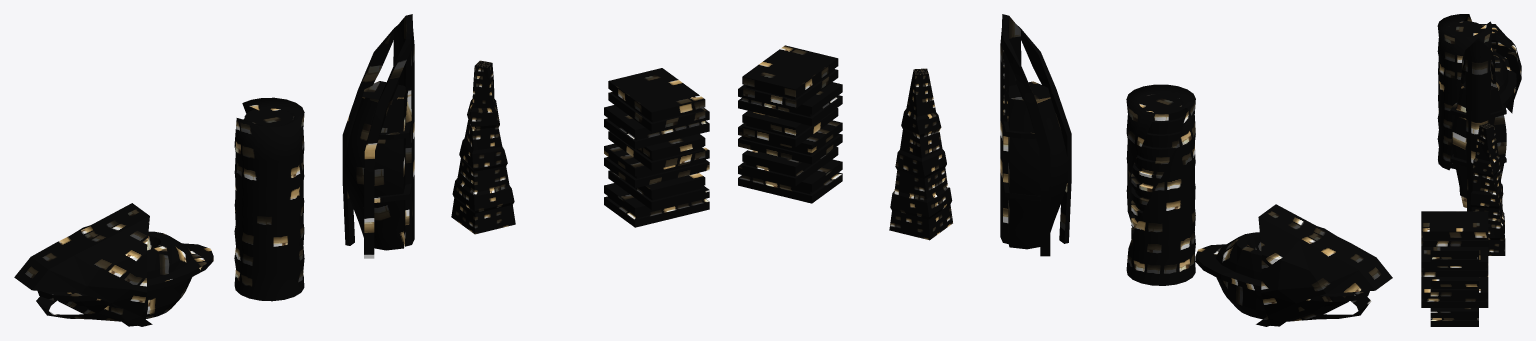
Rendered from building_pack_1.FBX.
The picture shows the model from 3 angles, left to right: view 1: azimuth 30°, elevation 25°; view 2: azimuth 150°, elevation 25°; view 3: azimuth 270°, elevation 25°; orthographic projection. The views are drawn at different scales.
Visible parts, largest first — view 1: Cylinder013, Box008, Cylinder012, Hose001, Pyramid001; view 2: Cylinder013, Box008, Cylinder012, Hose001, Pyramid001; view 3: Box008, Hose001, Cylinder012, Pyramid001, Cylinder013.
Part boxes in pixels (x1,y1,x2,y2): Cylinder013: [14, 203, 213, 326]; Box008: [604, 68, 709, 227]; Cylinder012: [234, 97, 304, 301]; Hose001: [342, 14, 414, 258]; Pyramid001: [451, 60, 515, 234]; Cylinder013: [1195, 204, 1392, 326]; Box008: [738, 45, 842, 203]; Cylinder012: [1126, 84, 1195, 285]; Hose001: [1000, 14, 1071, 256]; Pyramid001: [889, 68, 952, 240]; Box008: [1421, 211, 1488, 326]; Hose001: [1450, 38, 1506, 211]; Cylinder012: [1437, 14, 1492, 170]; Pyramid001: [1470, 123, 1505, 255]; Cylinder013: [1480, 24, 1521, 113].
Bounding box in the file's own units: 14863 × 5169 × 2541.
